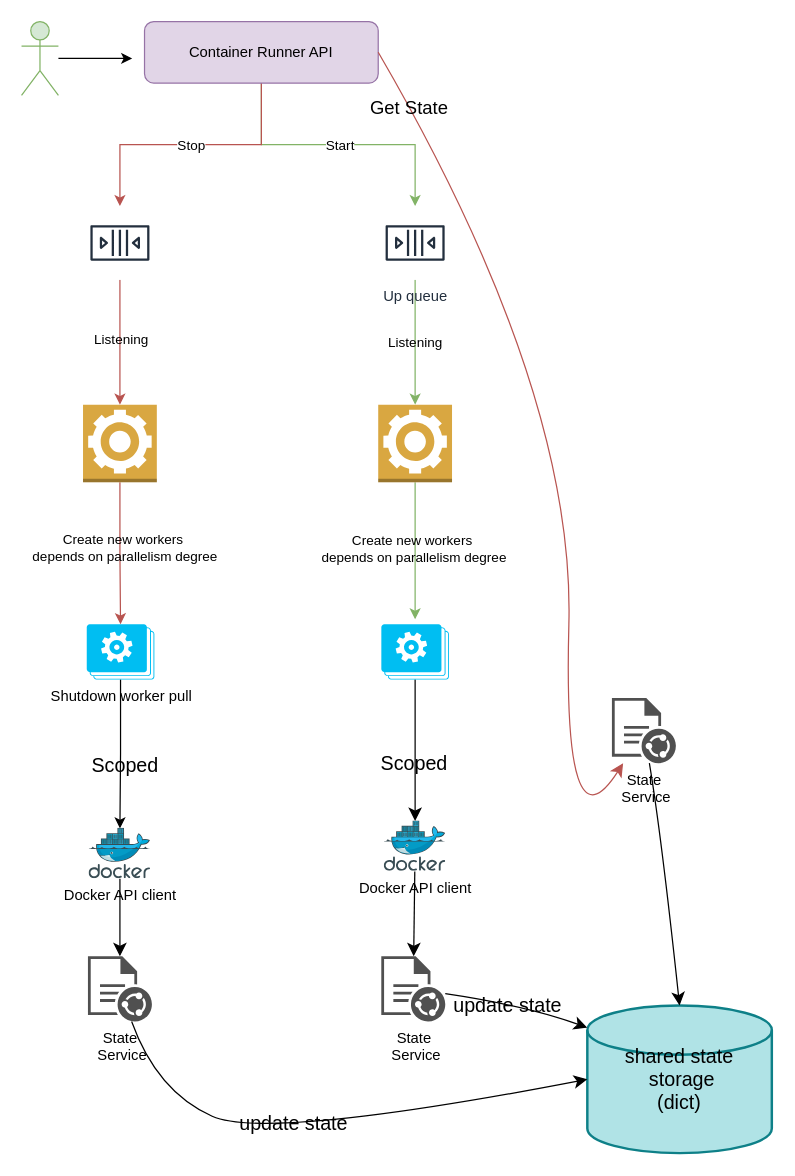
Some shapes in this 795 by 1176 pixel diagram are drawn without their labels. The box of each missing label's shape, as (x1, y1, x2, y2) in pixels:
Actor: (20, 20, 58, 95)
Background container creation service: (377, 403, 452, 482)
Background shutdown service: (82, 403, 157, 482)
Rising worker pull: (381, 624, 448, 679)
Shutdown queue: (82, 205, 157, 280)
